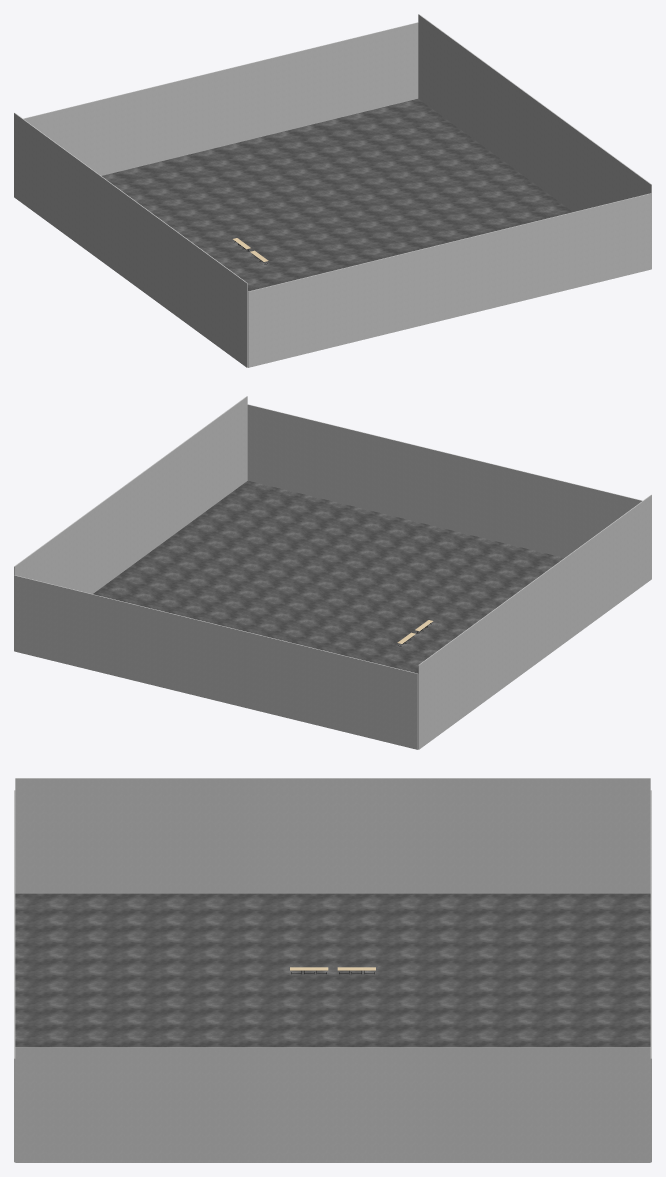
3 views of the same model, one above another, from view 1: azimuth 30°, elevation 25°; view 2: azimuth 150°, elevation 25°; view 3: azimuth 270°, elevation 25° (orthographic). The views are drawn at different scales.
Parts seen in each view (by area): view 1: material-a7e3c210-7937-4ae2-bd51-388db6b2eb87, material-a04d700b-3422-4b52-b89f-8fa5620ba4df, material-a502f27a-5c1d-4115-bd27-6ac644ad3874, material-ae0cc1c2-aa7e-40d6-804c-0998a717f881, material-accb4c9e-a803-45a8-84e7-16ba28aec221; view 2: material-a7e3c210-7937-4ae2-bd51-388db6b2eb87, material-a502f27a-5c1d-4115-bd27-6ac644ad3874, material-a04d700b-3422-4b52-b89f-8fa5620ba4df, material-ae0cc1c2-aa7e-40d6-804c-0998a717f881, material-accb4c9e-a803-45a8-84e7-16ba28aec221; view 3: material-a7e3c210-7937-4ae2-bd51-388db6b2eb87, material-ae0cc1c2-aa7e-40d6-804c-0998a717f881, material-accb4c9e-a803-45a8-84e7-16ba28aec221, material-a502f27a-5c1d-4115-bd27-6ac644ad3874, material-a04d700b-3422-4b52-b89f-8fa5620ba4df.
Part boxes in pixels (left/top/right/bottom): material-a7e3c210-7937-4ae2-bd51-388db6b2eb87: left=102, top=99, right=572, bottom=291; material-a04d700b-3422-4b52-b89f-8fa5620ba4df: left=247, top=193, right=651, bottom=367; material-a502f27a-5c1d-4115-bd27-6ac644ad3874: left=23, top=22, right=418, bottom=175; material-ae0cc1c2-aa7e-40d6-804c-0998a717f881: left=14, top=112, right=247, bottom=367; material-accb4c9e-a803-45a8-84e7-16ba28aec221: left=418, top=14, right=651, bottom=268; material-a7e3c210-7937-4ae2-bd51-388db6b2eb87: left=93, top=481, right=563, bottom=673; material-a502f27a-5c1d-4115-bd27-6ac644ad3874: left=14, top=575, right=418, bottom=749; material-a04d700b-3422-4b52-b89f-8fa5620ba4df: left=247, top=404, right=642, bottom=557; material-ae0cc1c2-aa7e-40d6-804c-0998a717f881: left=418, top=494, right=651, bottom=749; material-accb4c9e-a803-45a8-84e7-16ba28aec221: left=14, top=396, right=247, bottom=650; material-a7e3c210-7937-4ae2-bd51-388db6b2eb87: left=15, top=893, right=650, bottom=1047; material-ae0cc1c2-aa7e-40d6-804c-0998a717f881: left=15, top=778, right=650, bottom=893; material-accb4c9e-a803-45a8-84e7-16ba28aec221: left=15, top=1047, right=650, bottom=1162; material-a502f27a-5c1d-4115-bd27-6ac644ad3874: left=650, top=790, right=651, bottom=1162; material-a04d700b-3422-4b52-b89f-8fa5620ba4df: left=14, top=790, right=15, bottom=1162.
Bounding box in the file's own units: 10041 × 2000 × 10041.
17 materials, 11 textured.
